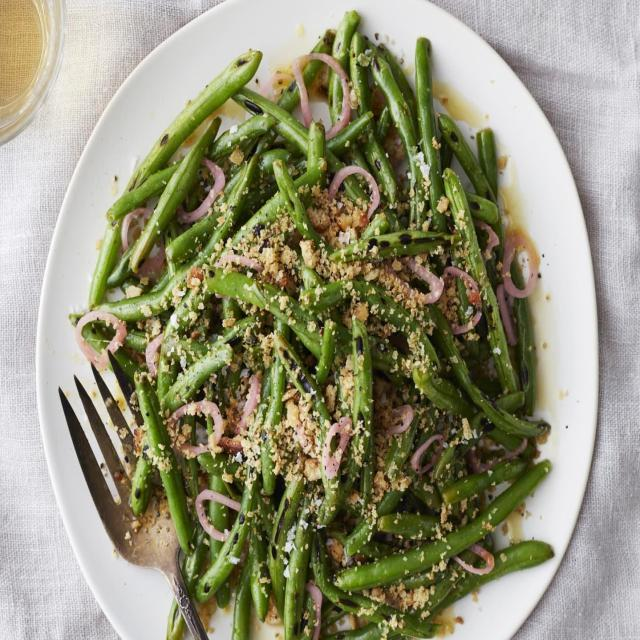Beans: (90, 10, 561, 639)
